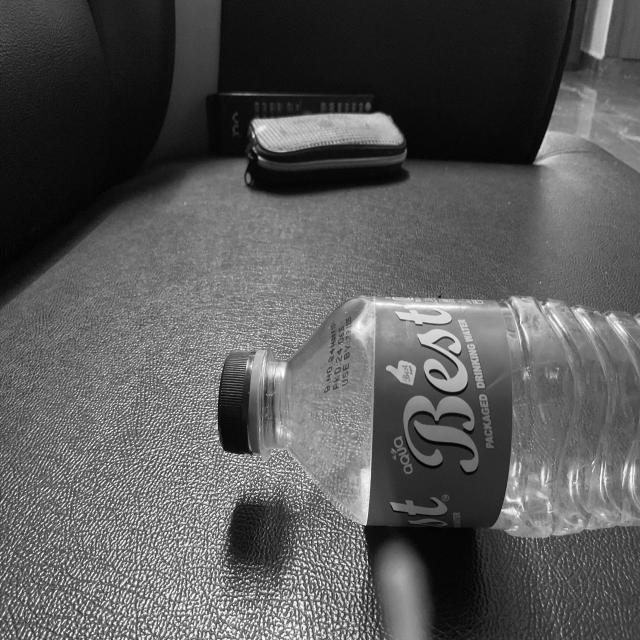Good-cap-Df0S: (215, 347, 270, 458)
